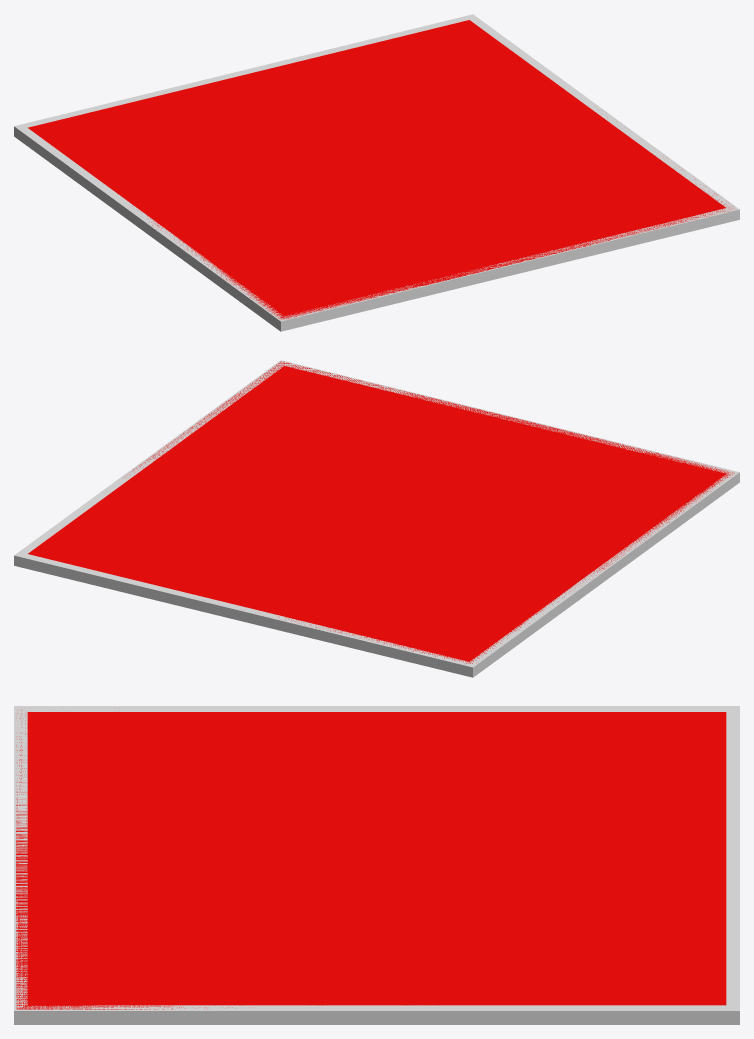
Rendered from Ceiling.fbx.
3 renders of one model, top to bottom at view 1: azimuth 30°, elevation 25°; view 2: azimuth 150°, elevation 25°; view 3: azimuth 270°, elevation 25°, orthographic. The views are drawn at different scales.
Visible parts, largest first — view 1: Skirting3; view 2: Skirting3; view 3: Skirting3.
Part boxes in pixels (<box>): Skirting3: <box>14,14,739,331</box>; Skirting3: <box>14,360,739,677</box>; Skirting3: <box>14,706,739,1024</box>.
Bounding box in the file's own units: 11.59 × 0.2467 × 11.67.
